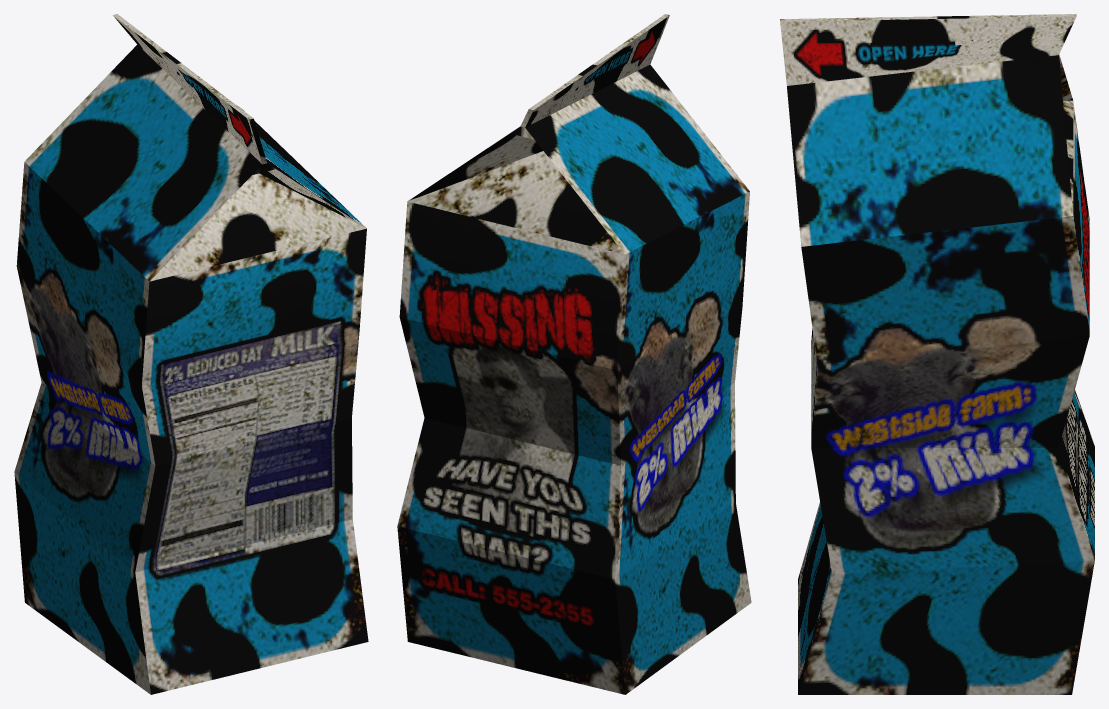
File: milk_crushed.fbx
3 renders of one model, left to right at view 1: azimuth 30°, elevation 25°; view 2: azimuth 150°, elevation 25°; view 3: azimuth 270°, elevation 25°, orthographic. The views are drawn at different scales.
Visible parts, largest first — view 1: milk; view 2: milk; view 3: milk.
Part boxes in pixels (x1,y1,x2,y2): milk: [14, 14, 368, 694]; milk: [397, 14, 751, 694]; milk: [780, 14, 1094, 694].
Bounding box in the file's own units: 0.1475 × 0.3654 × 0.17.
